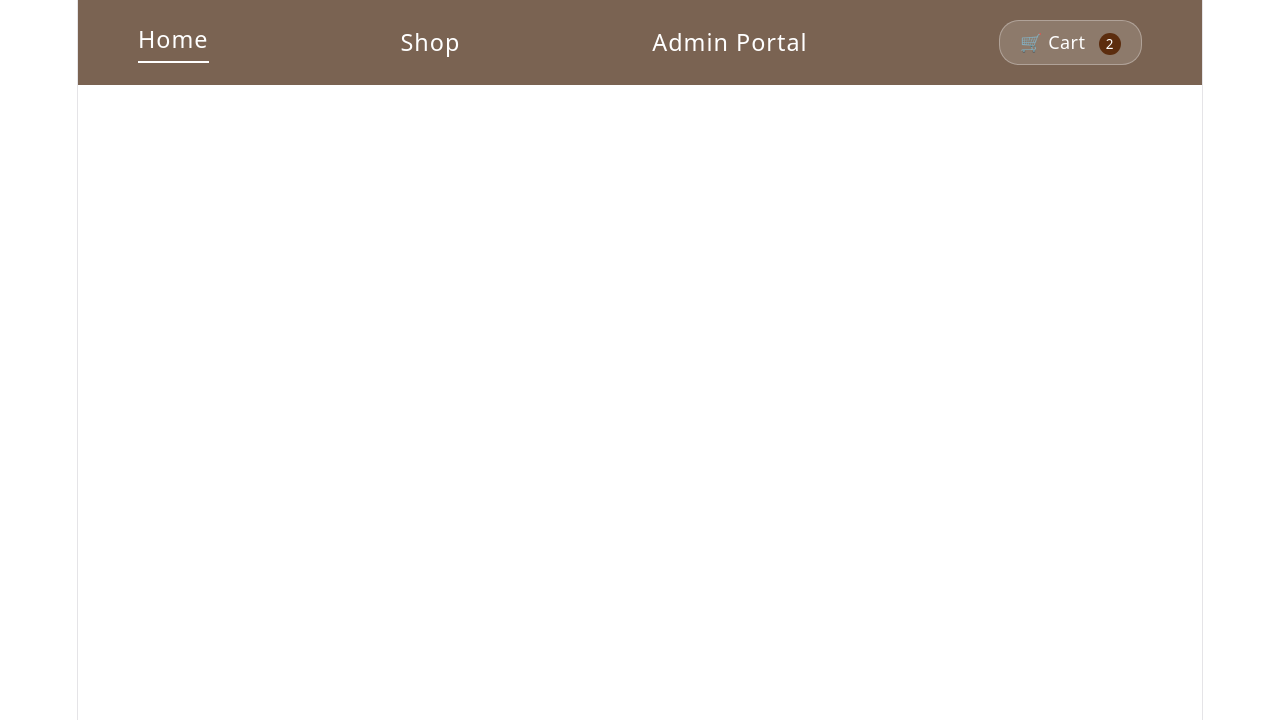
Test: Navbar › opens cart dropdown when cart button clicked
What coordinates should you click on to do the following:
click the button "🛒 Cart 2"
I would click on:
 (1071, 42)
Its box is left=1000, top=20, right=1142, bottom=65.
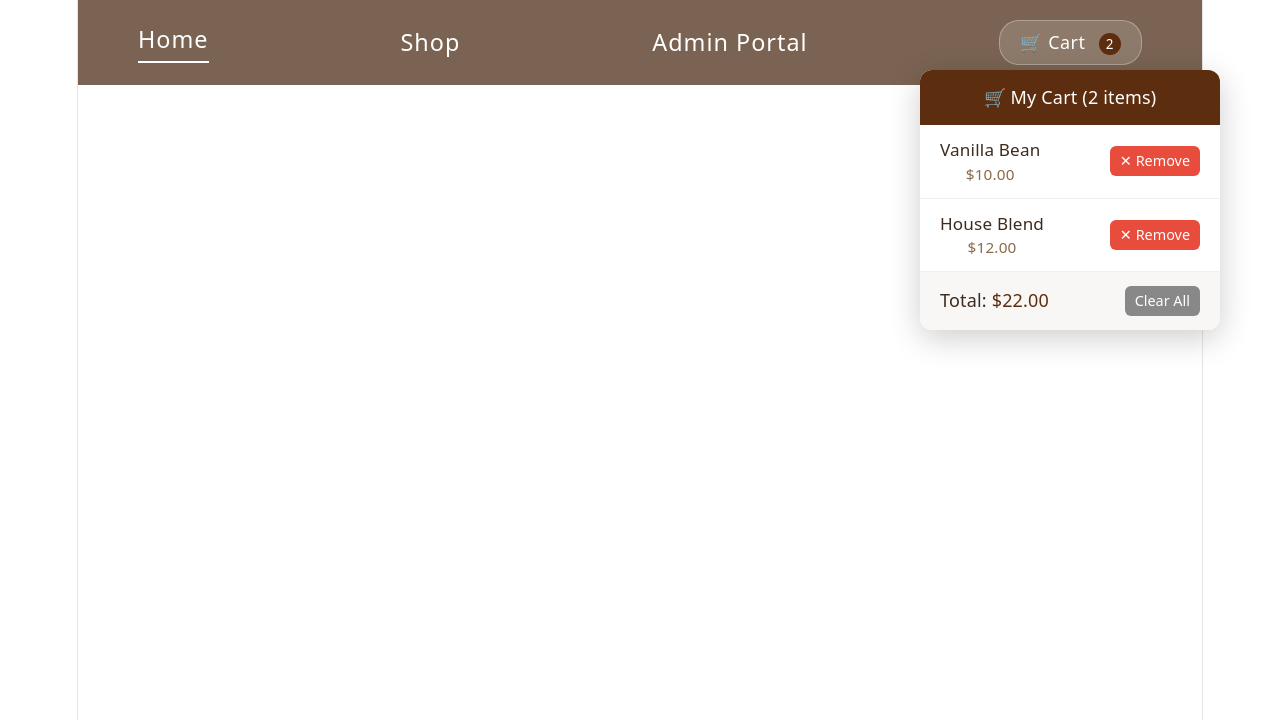
Check: the text "Vanilla Bean" is shown, box left=940, top=137, right=1040, bottom=163
Check: the text "House Blend" is shown, box left=940, top=211, right=1044, bottom=236
